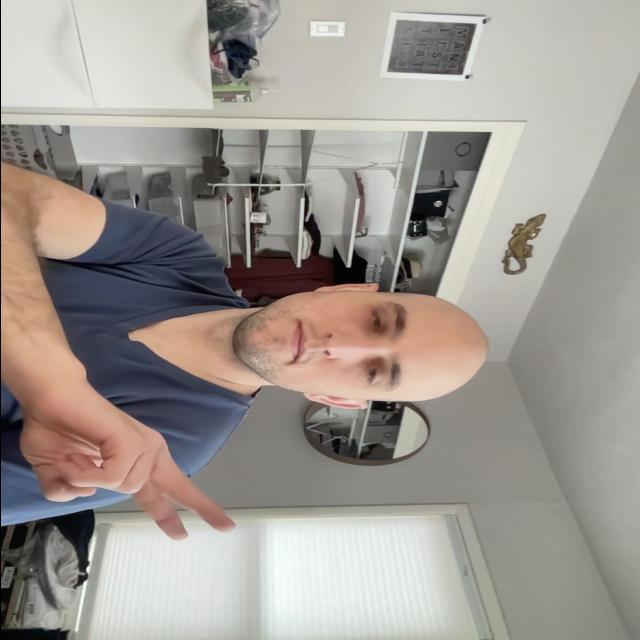Scissors: (15, 384, 244, 542)
